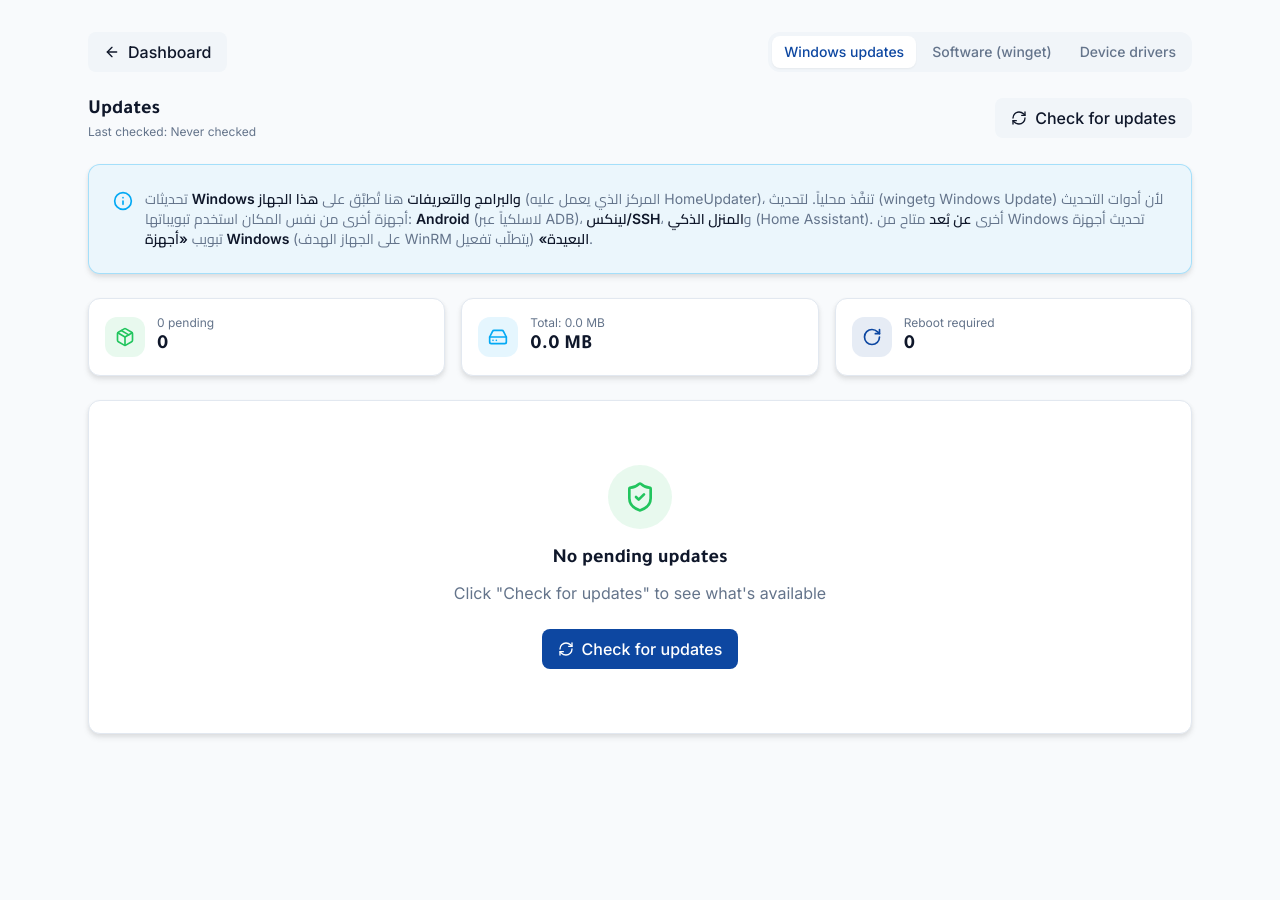
Test: UpdatesPage › switches to the drivers tab and loads driver updates
Check: the heading "No pending updates" is shown, box [552, 549, 728, 569]
Click the button "Device drivers" at (1128, 52), box [1068, 36, 1188, 68]
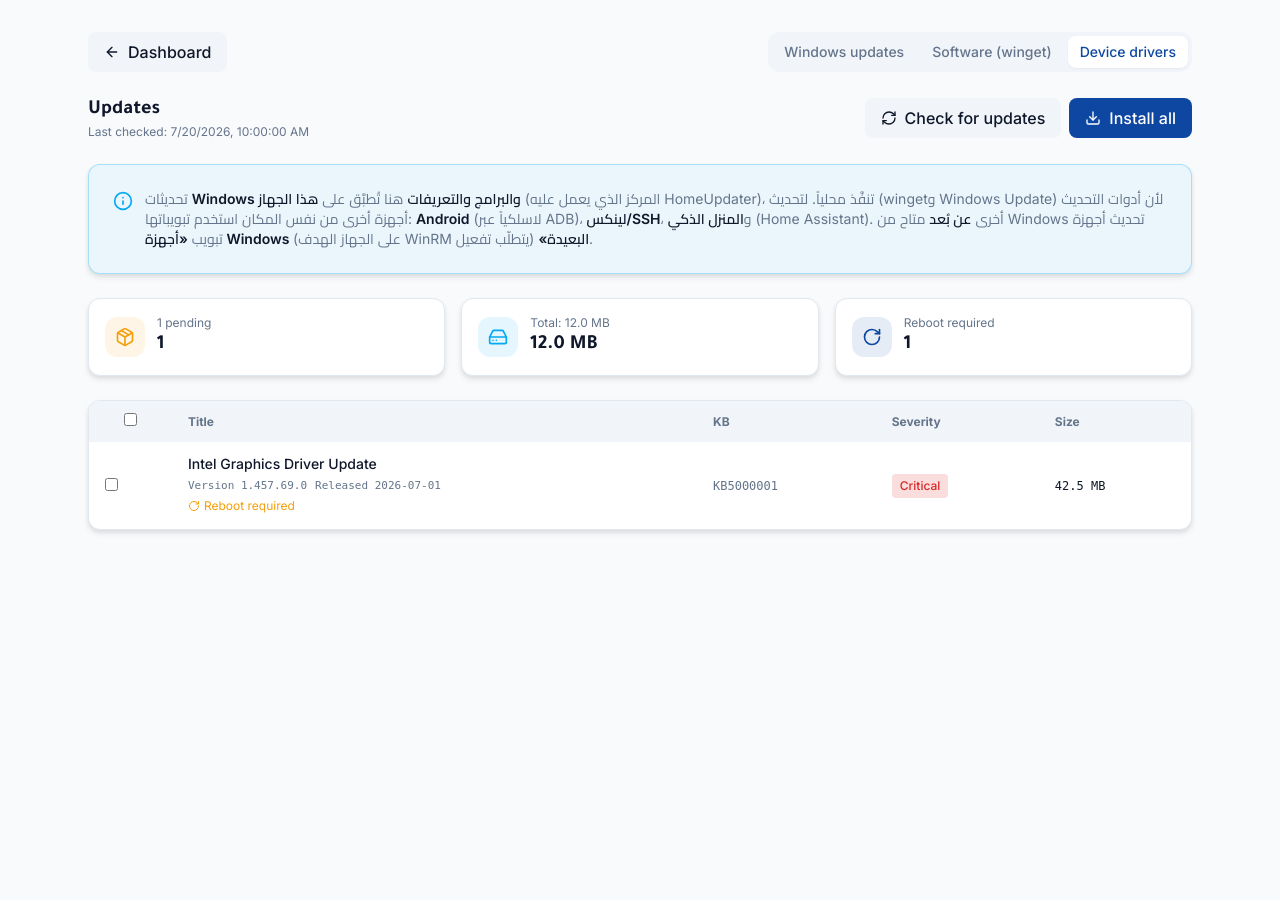
Check: the text "Intel Graphics Driver Update" is shown, box [188, 455, 377, 472]
